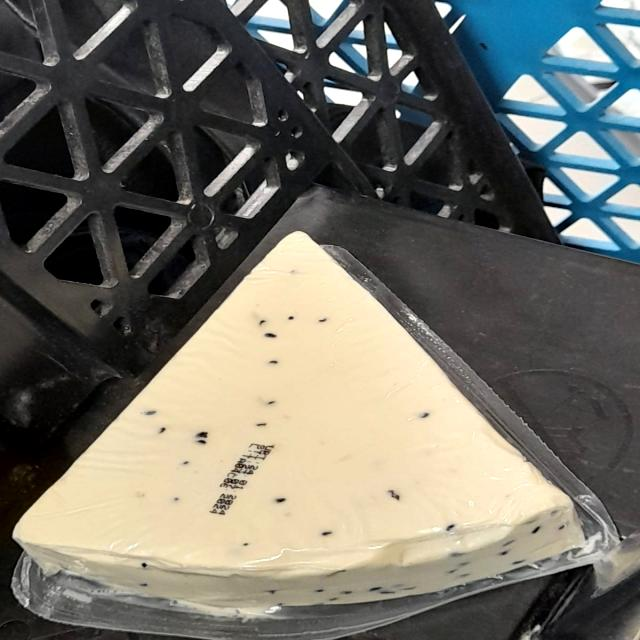cheese: (20, 226, 604, 628)
